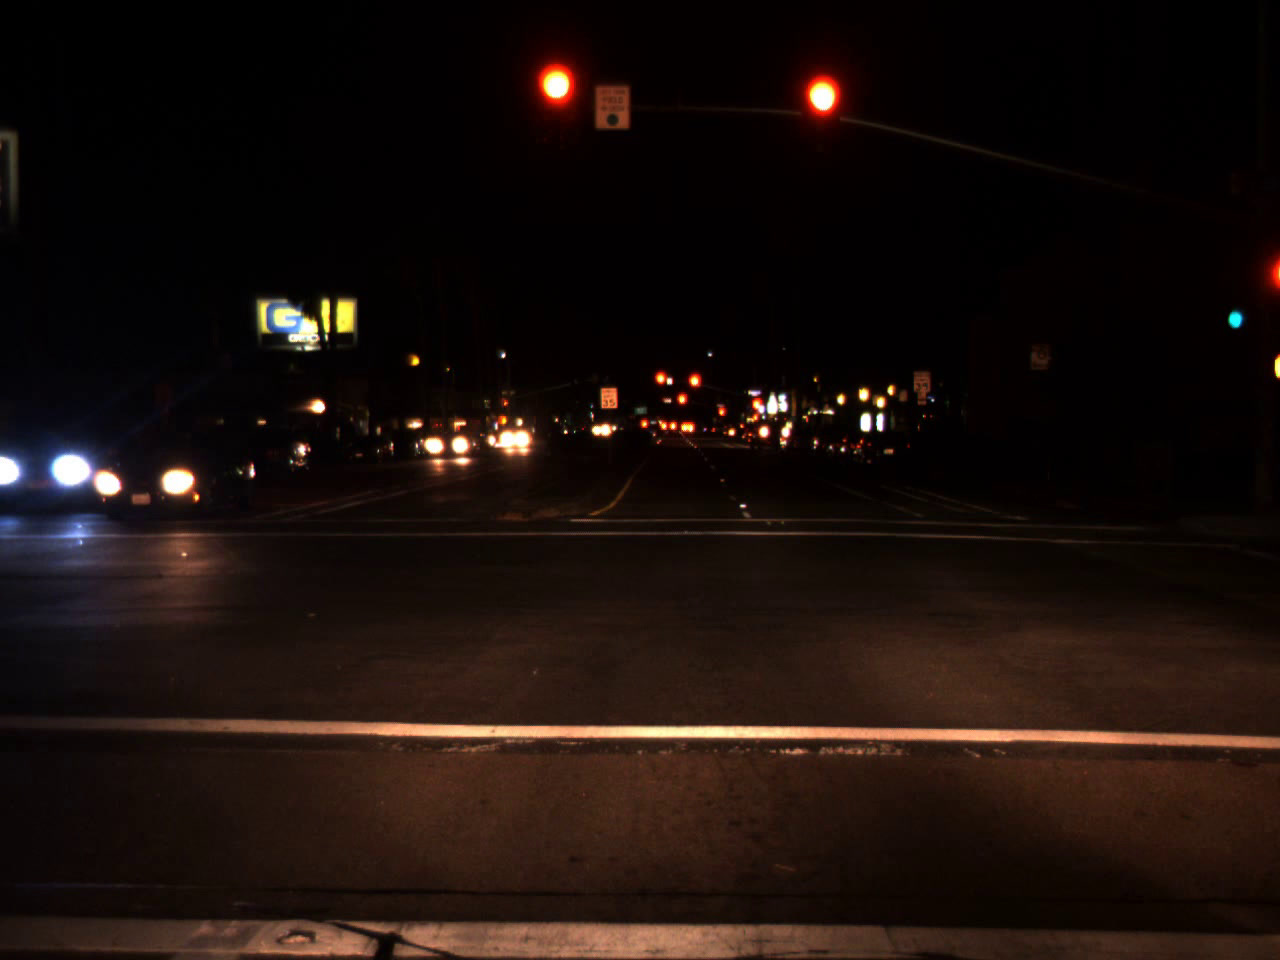stop: (537, 65, 577, 143), (802, 75, 839, 153), (653, 370, 671, 399), (686, 372, 702, 401), (675, 391, 688, 418), (751, 397, 763, 424), (717, 406, 726, 424), (503, 398, 509, 414)
